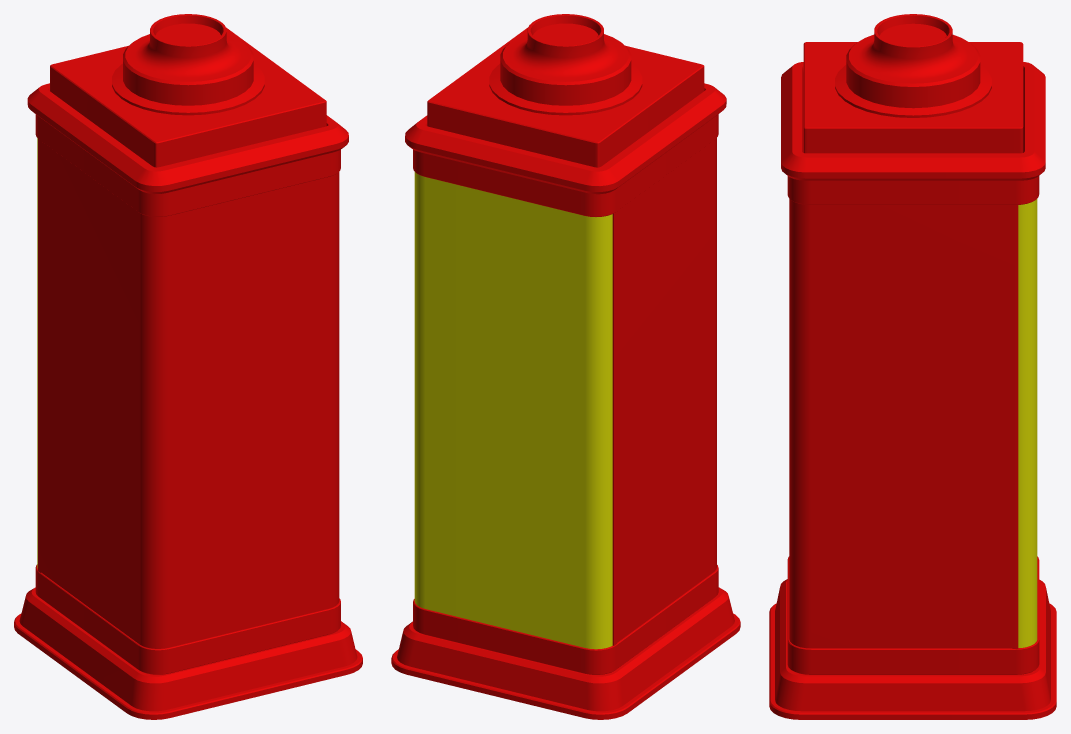
File: Chamber_3.fbx
3 renders of one model, left to right at view 1: azimuth 30°, elevation 25°; view 2: azimuth 150°, elevation 25°; view 3: azimuth 270°, elevation 25°, orthographic. The views are drawn at different scales.
Parts seen in each view (by area): view 1: L5:polySurface2302; view 2: L5:polySurface2302; view 3: L5:polySurface2302.
Part boxes in pixels (<box>): L5:polySurface2302: <box>14,14,362,719</box>; L5:polySurface2302: <box>391,14,740,719</box>; L5:polySurface2302: <box>769,14,1056,719</box>.
Bounding box in the file's own units: 176 × 446 × 184.
